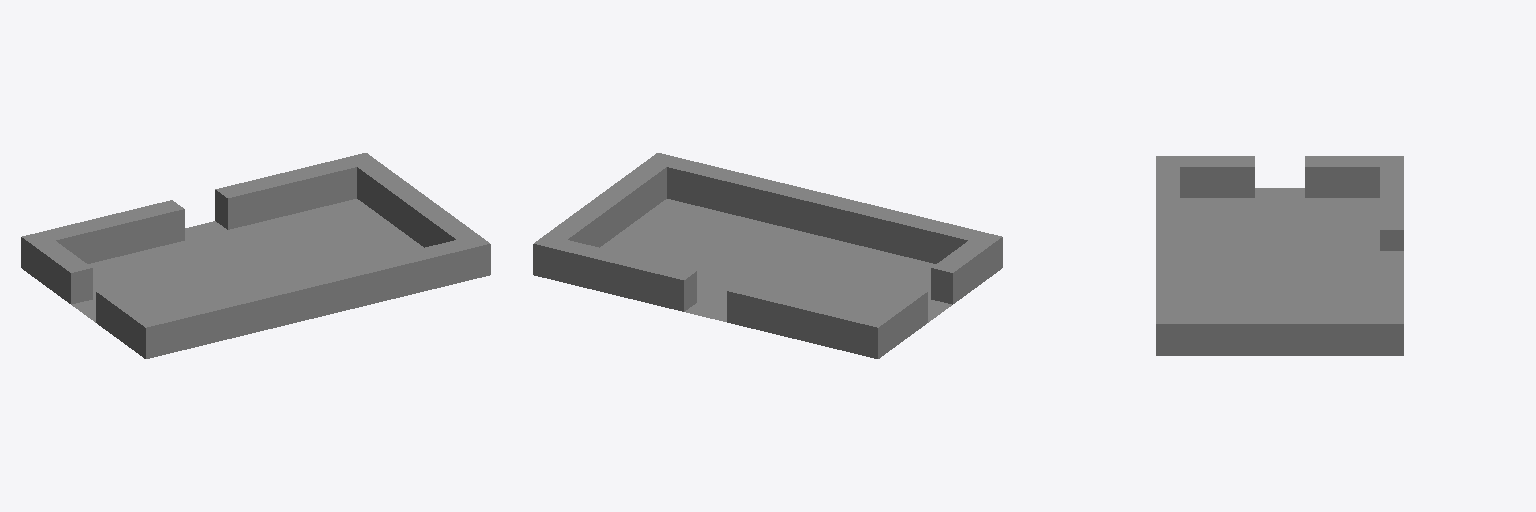
The model's file is Room2x4.obj.
The picture shows the model from 3 angles: view 1: azimuth 30°, elevation 25°; view 2: azimuth 150°, elevation 25°; view 3: azimuth 270°, elevation 25°; orthographic projection.
Parts seen in each view (by area): view 1: room2x4, collision; view 2: room2x4, collision; view 3: room2x4, collision.
Boxes of the visible parts, <box> form: room2x4: <box>21,153,490,358</box>; collision: <box>21,153,490,358</box>; room2x4: <box>533,153,1002,358</box>; collision: <box>533,153,1002,358</box>; room2x4: <box>1156,156,1403,355</box>; collision: <box>1156,156,1403,355</box>.
Bounding box in the file's own units: 80 × 7 × 50.